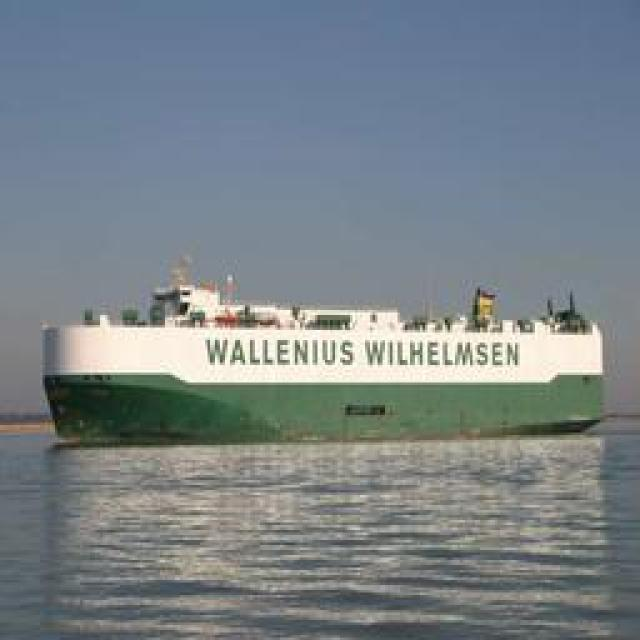CIV_Ship: (0, 279, 602, 442)
